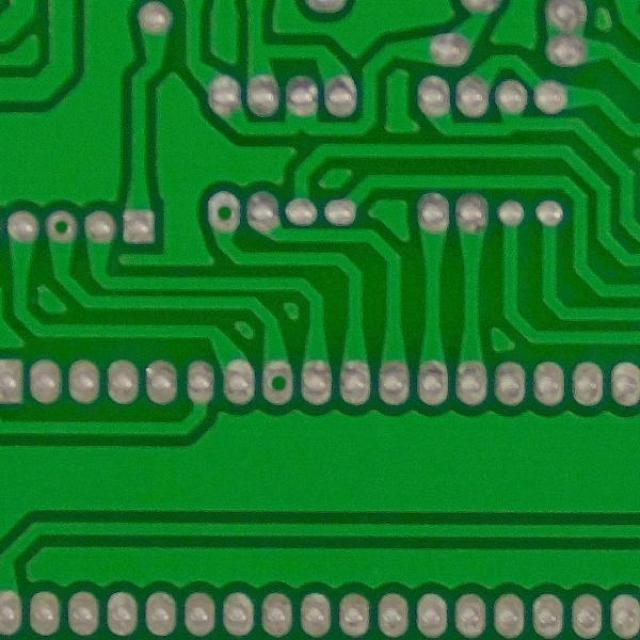Missing_Hole: (256, 358, 301, 408), (202, 189, 245, 236), (41, 209, 80, 248)
